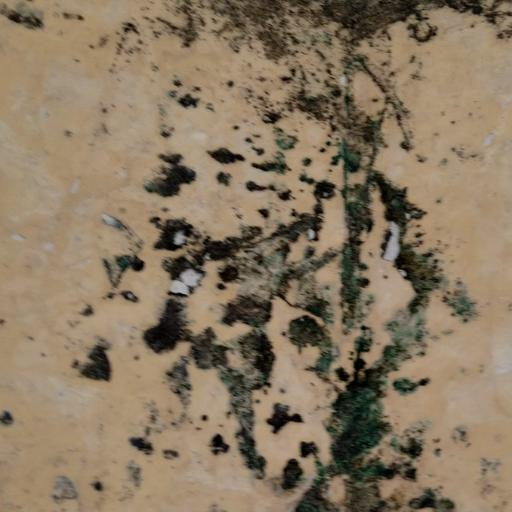algae: (101, 0, 496, 512)
